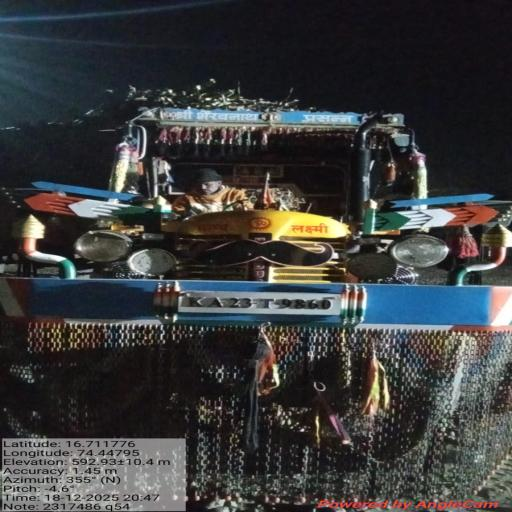number_plate: (179, 291, 340, 315)
